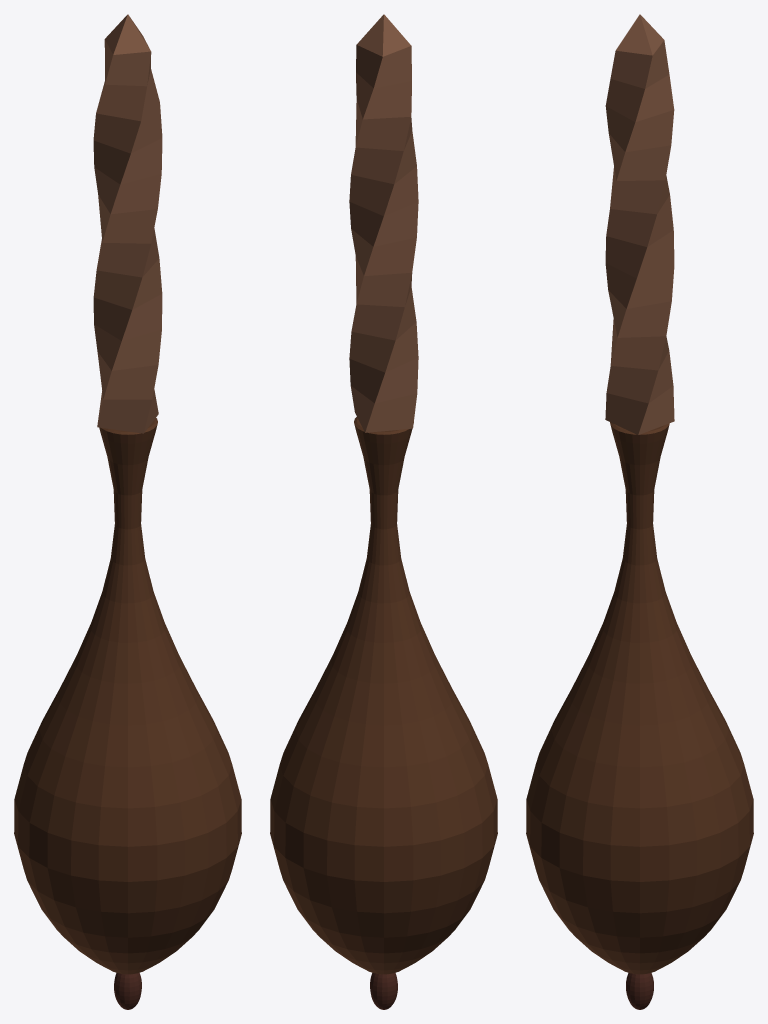
File: Wand 956.glb
3 views of the same model, side by side, from view 1: azimuth 30°, elevation 25°; view 2: azimuth 150°, elevation 25°; view 3: azimuth 270°, elevation 25° (orthographic).
Parts seen in each view (by area): view 1: GeneratedWand; view 2: GeneratedWand; view 3: GeneratedWand.
Boxes of the visible parts, bbox=[...] form: GeneratedWand: bbox=[14, 14, 241, 1009]; GeneratedWand: bbox=[270, 14, 497, 1009]; GeneratedWand: bbox=[526, 14, 753, 1009].
Bounding box in the file's own units: 0.1026 × 0.4947 × 0.1026.
